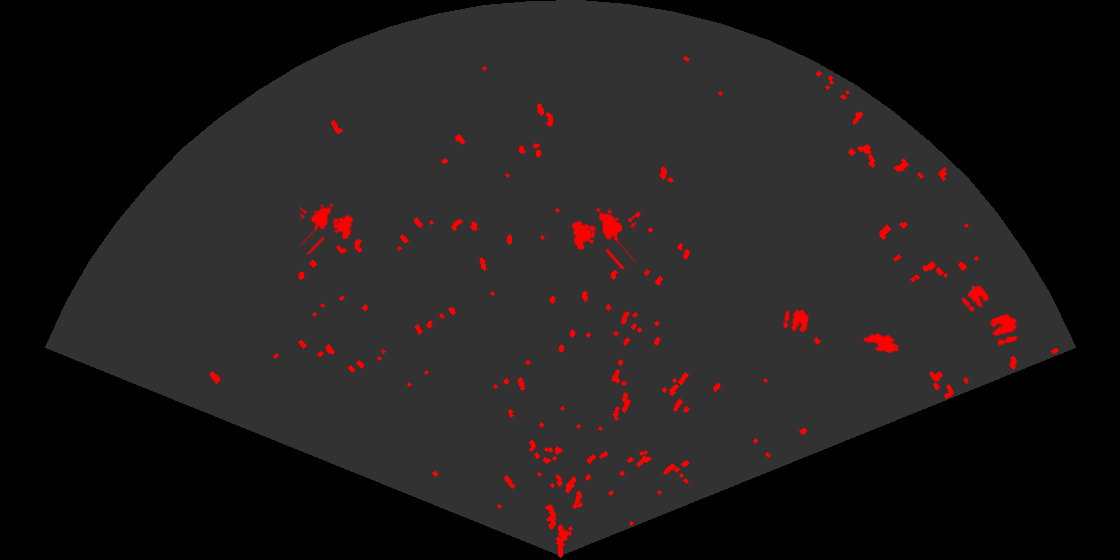AUV: (861, 331, 901, 355)
ball: (988, 312, 1020, 347), (960, 284, 990, 313), (781, 308, 810, 334)
cage: (570, 206, 636, 269), (300, 202, 355, 254)
